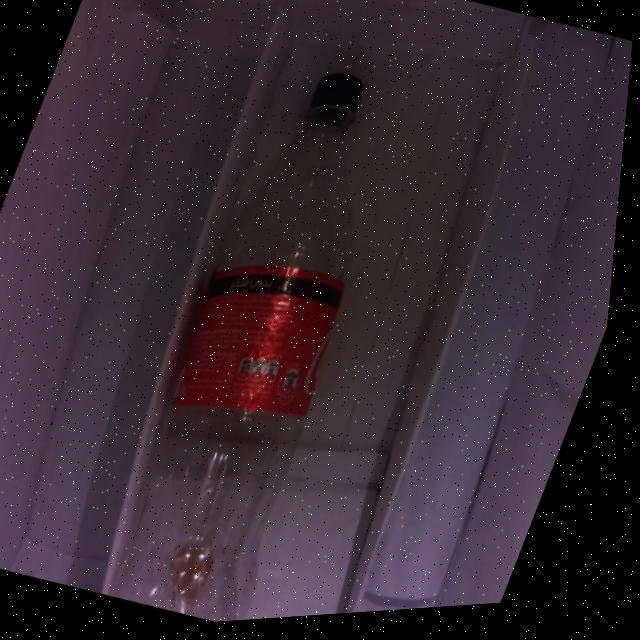sise: (120, 77, 366, 626)
